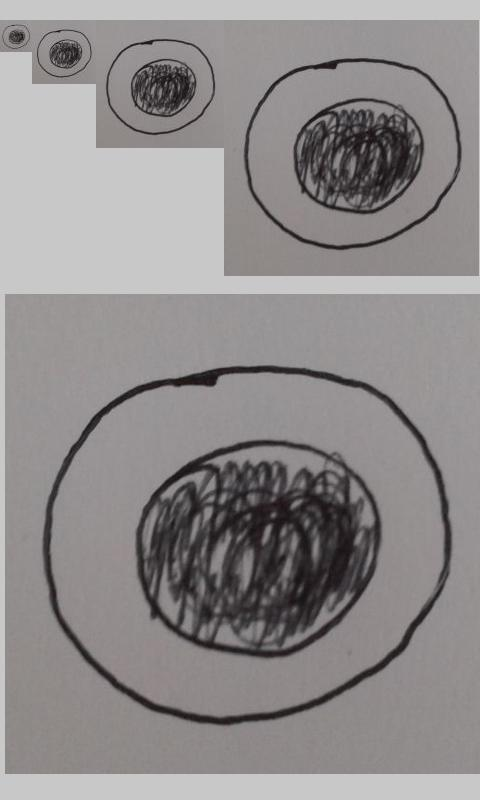radio_button: (41, 362, 454, 726), (242, 56, 463, 251), (105, 38, 217, 136), (36, 28, 92, 78), (1, 24, 31, 50)
